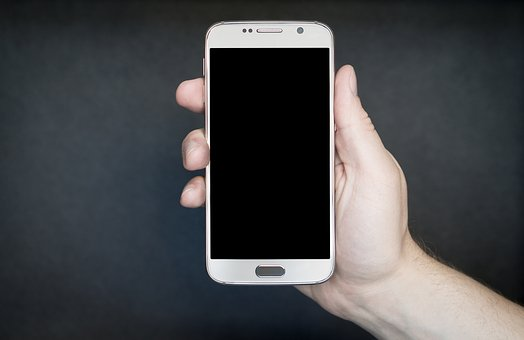mobile: (196, 12, 357, 301)
